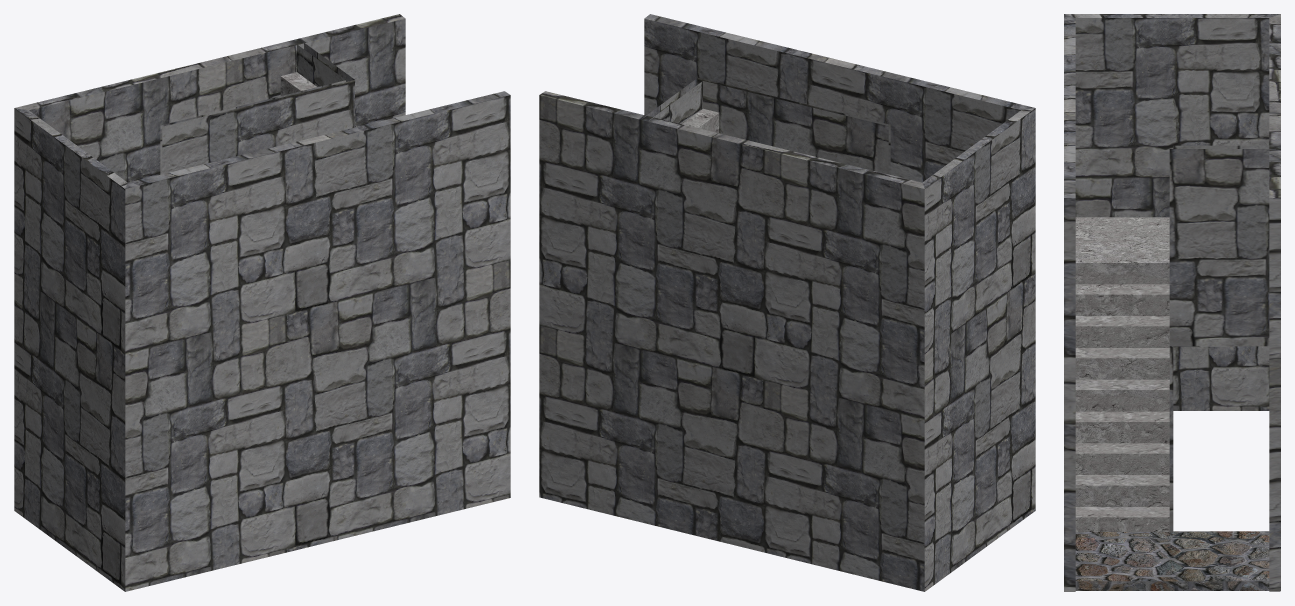
File: roomStairsMiddle.dae
3 renders of one model, left to right at view 1: azimuth 30°, elevation 25°; view 2: azimuth 150°, elevation 25°; view 3: azimuth 270°, elevation 25°, orthographic. The views are drawn at different scales.
Parts seen in each view (by area): view 1: WallsBottom, DividerMiddle; view 2: WallsBottom, DividerMiddle; view 3: WallsBottom, StairsBottom, DividerMiddle, FloorMiddle.
Part boxes in pixels (x1,y1,x2,y2): WallsBottom: [14, 14, 510, 591]; DividerMiddle: [160, 39, 354, 174]; WallsBottom: [539, 14, 1035, 591]; DividerMiddle: [642, 78, 890, 174]; WallsBottom: [1064, 14, 1280, 591]; StairsBottom: [1075, 217, 1172, 531]; DividerMiddle: [1169, 145, 1278, 532]; FloorMiddle: [1075, 531, 1269, 590].
Bounding box in the file's own units: 30 × 14.94 × 30.05.
Materials: 3 (3 with a texture image).
